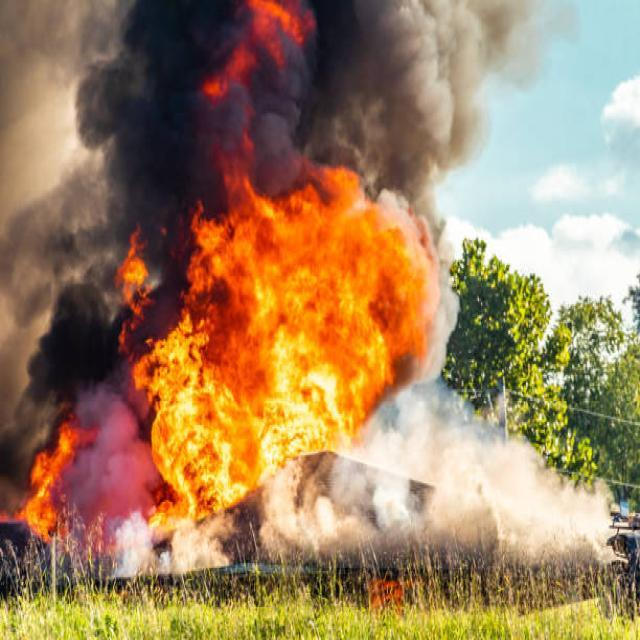Fire: (144, 186, 436, 504), (200, 0, 323, 131), (12, 401, 95, 556)
Smoke: (0, 0, 217, 483), (258, 372, 634, 568), (302, 3, 568, 211)
